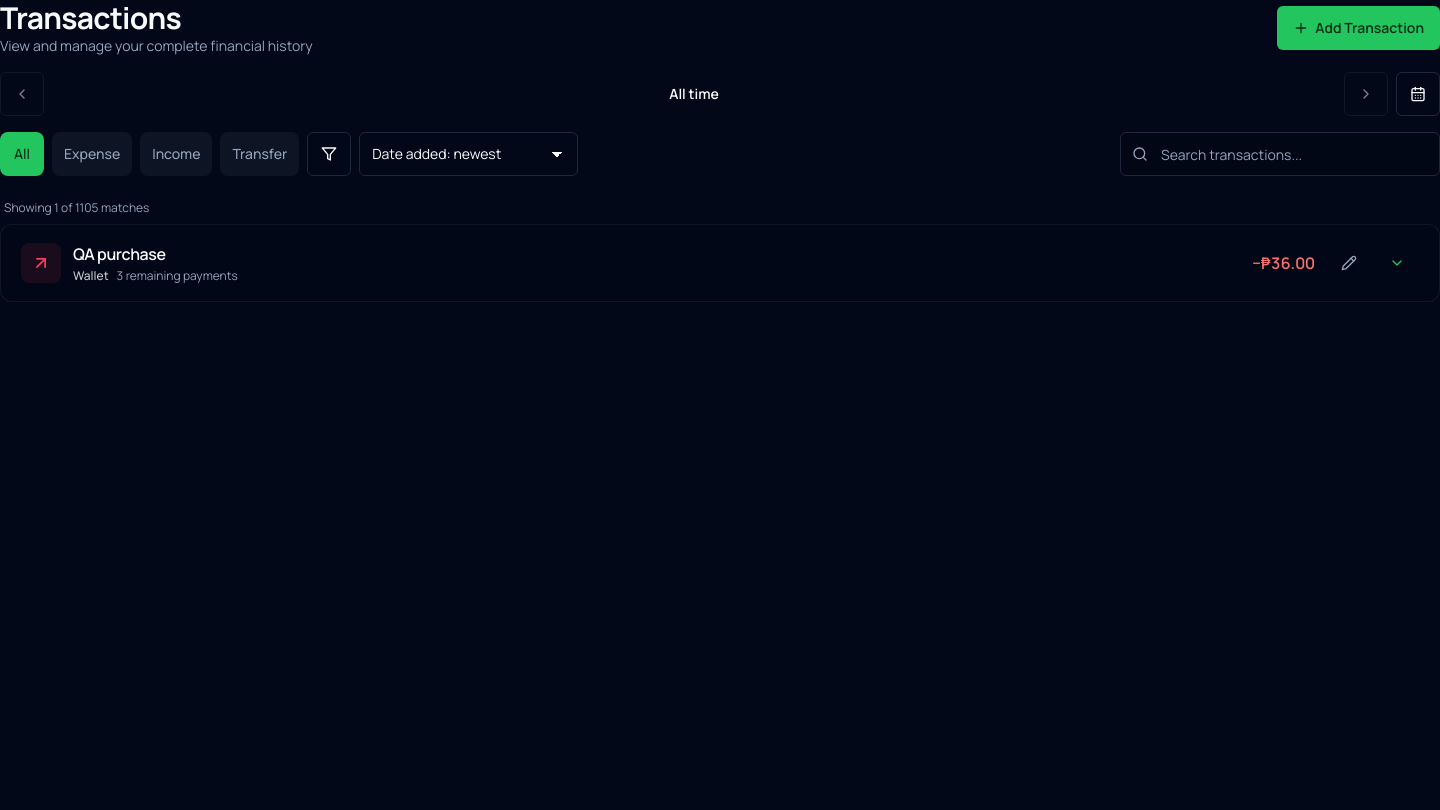
transactions history pagination › opens the complete installment description editor without opening the schedule
Click the button named "Edit description for QA purchase" at (1349, 263), box [1327, 241, 1371, 285]
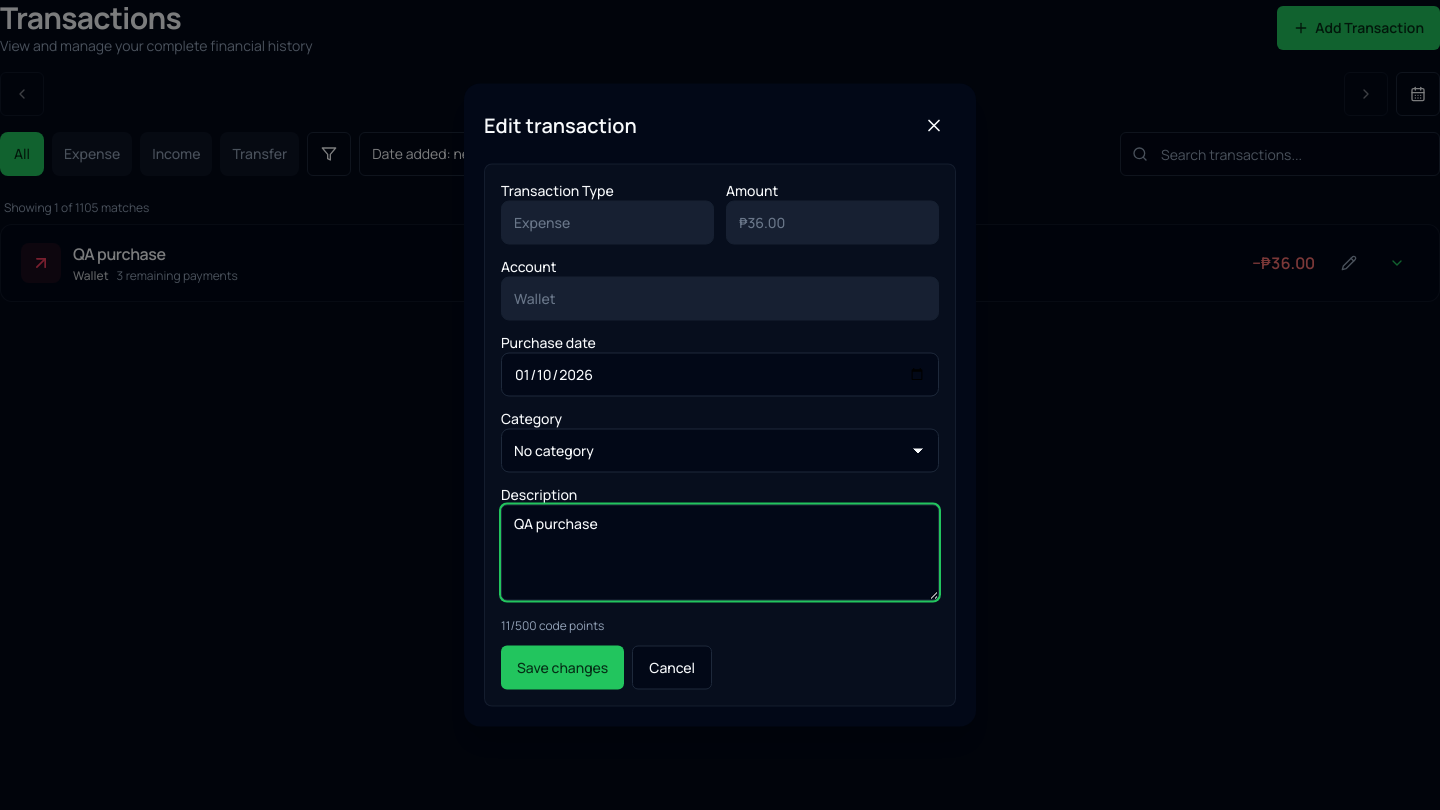
Now the text box labelled "Description" holds "QA purchase", box [501, 504, 939, 600]
Now the dialog "Edit transaction" is shown, box [464, 84, 976, 726]
